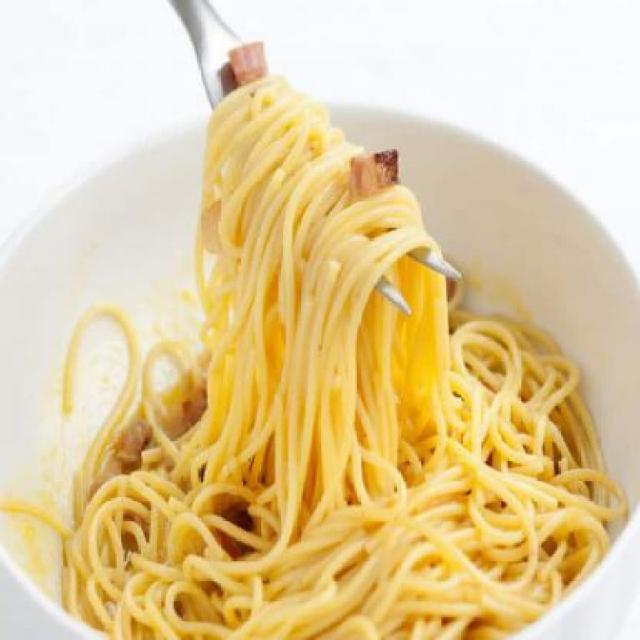Pasta with carbonara sauce: (35, 50, 614, 621)
